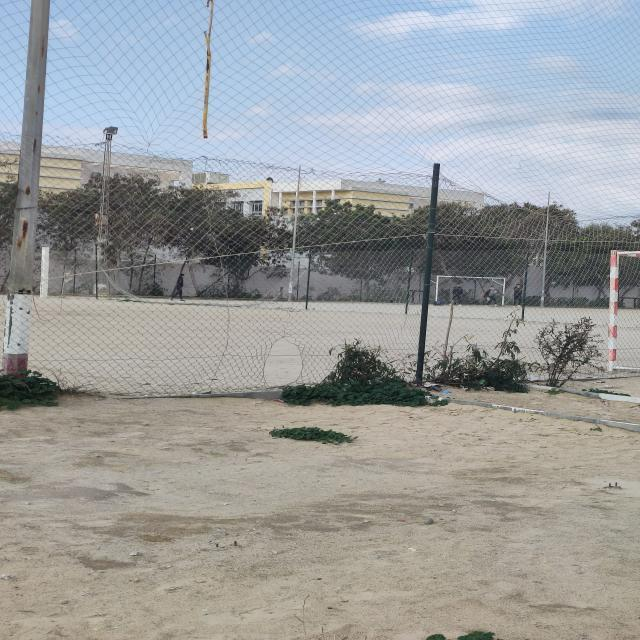fence line: (261, 338, 317, 389)
